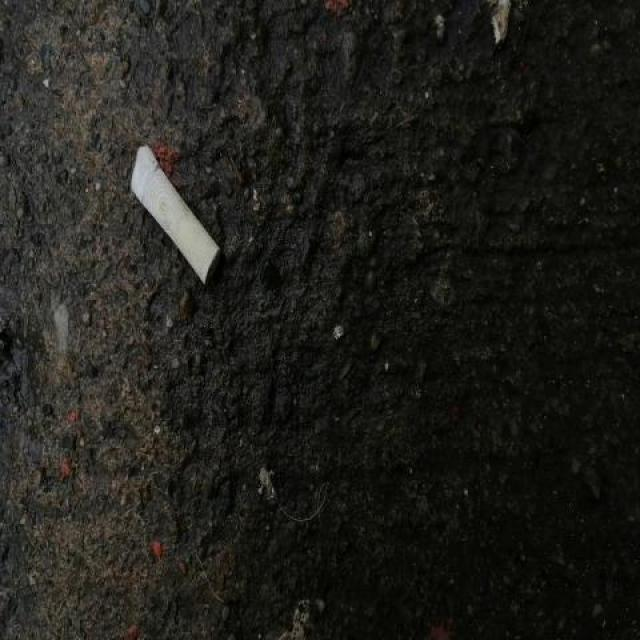non-organic waste: (129, 134, 222, 294)
